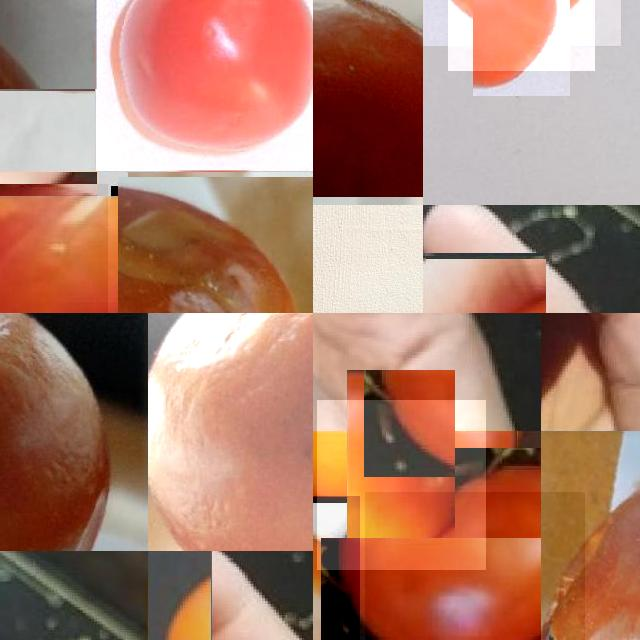0: (365, 492, 585, 640), (317, 400, 486, 570)
1: (541, 431, 640, 640)
Fresh Tomato: (96, 0, 313, 171), (448, 0, 595, 71), (148, 551, 211, 640)
Rotten Tomato: (148, 313, 313, 551), (0, 313, 148, 551), (118, 177, 313, 313), (313, 0, 423, 197), (0, 183, 108, 313)
